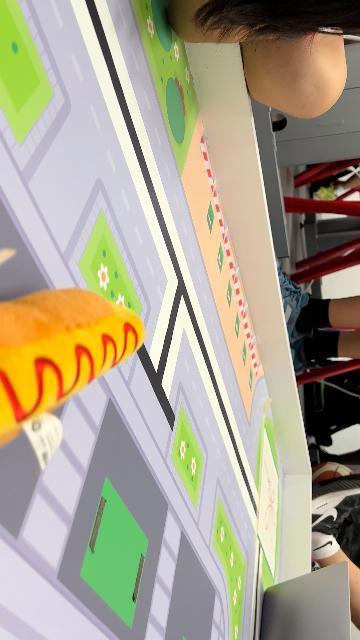hotdog: (1, 287, 147, 447)
